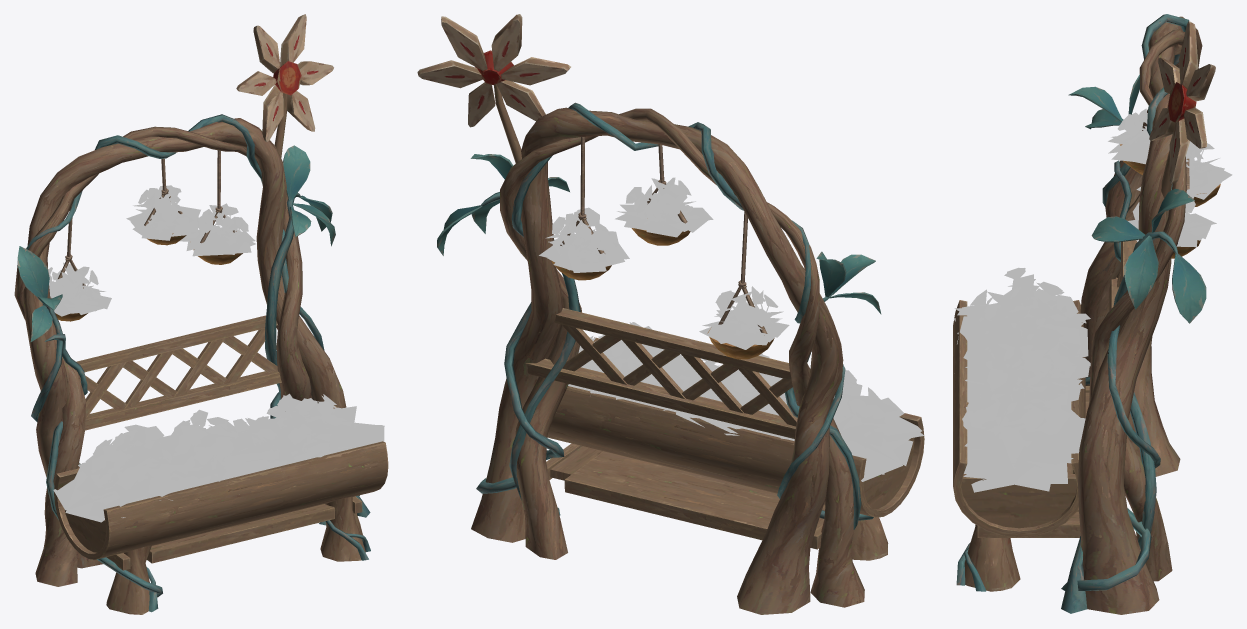
File: Homeworld_Exterior_Common_Decoration_Gardenshelf_01_Lod0.fbx
The picture shows the model from 3 angles, left to right: view 1: azimuth 30°, elevation 25°; view 2: azimuth 150°, elevation 25°; view 3: azimuth 270°, elevation 25°; orthographic projection. The views are drawn at different scales.
Parts seen in each view (by area): view 1: Homeworld_Exterior_Common_Decoration_Gardenshelf_01_A_Lod0, Homeworld_Exterior_Common_Decoration_Gardenshelf_01_B_Lod0; view 2: Homeworld_Exterior_Common_Decoration_Gardenshelf_01_A_Lod0, Homeworld_Exterior_Common_Decoration_Gardenshelf_01_B_Lod0; view 3: Homeworld_Exterior_Common_Decoration_Gardenshelf_01_A_Lod0, Homeworld_Exterior_Common_Decoration_Gardenshelf_01_B_Lod0.
Boxes of the visible parts, x1,y1,x2,y2 form: Homeworld_Exterior_Common_Decoration_Gardenshelf_01_A_Lod0: [14, 14, 388, 614]; Homeworld_Exterior_Common_Decoration_Gardenshelf_01_B_Lod0: [48, 185, 384, 522]; Homeworld_Exterior_Common_Decoration_Gardenshelf_01_A_Lod0: [417, 14, 924, 614]; Homeworld_Exterior_Common_Decoration_Gardenshelf_01_B_Lod0: [539, 177, 924, 481]; Homeworld_Exterior_Common_Decoration_Gardenshelf_01_A_Lod0: [953, 14, 1220, 614]; Homeworld_Exterior_Common_Decoration_Gardenshelf_01_B_Lod0: [954, 108, 1232, 492].
Size of the model in its own units: 3.05 by 3.89 by 1.77.
